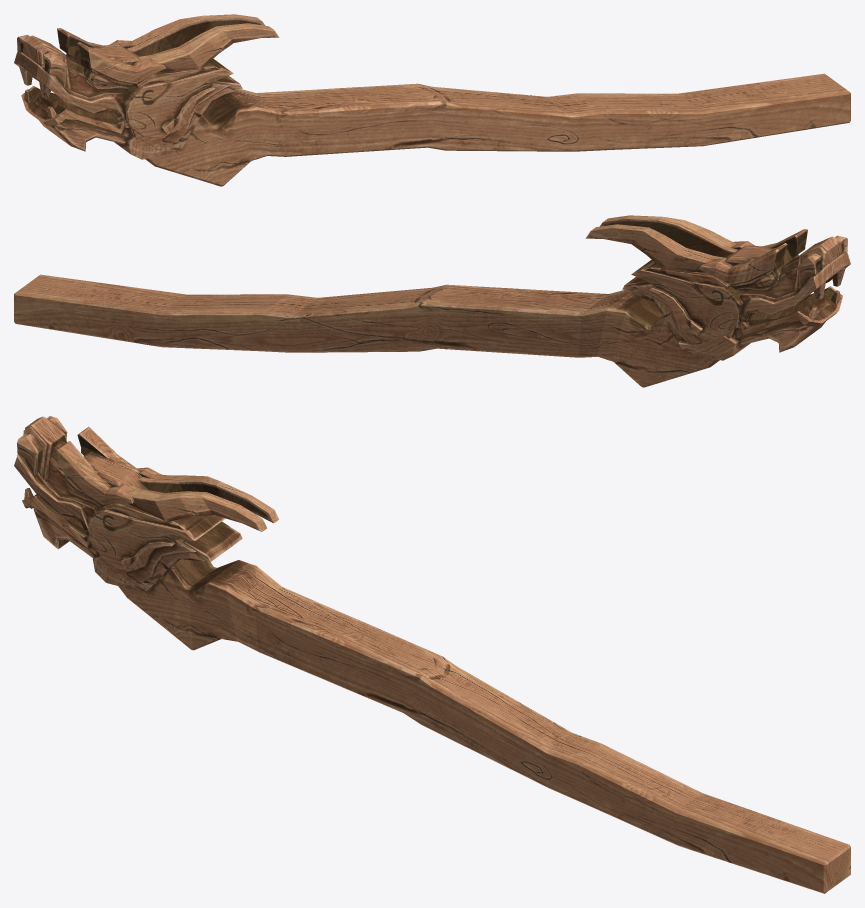
The model's file is SM_SculptedBeam.fbx.
3 renders of one model, top to bottom at view 1: azimuth 30°, elevation 25°; view 2: azimuth 150°, elevation 25°; view 3: azimuth 330°, elevation 25°, orthographic.
Visible parts, largest first — view 1: SM_SculptedBeam_LOD0; view 2: SM_SculptedBeam_LOD0; view 3: SM_SculptedBeam_LOD0.
Part boxes in pixels (x1,y1,x2,y2): SM_SculptedBeam_LOD0: (14,14,850,186); SM_SculptedBeam_LOD0: (14,215,850,387); SM_SculptedBeam_LOD0: (14,416,850,893).
Bounding box in the file's own units: 2730 × 257 × 866.
1 material, 1 textured.
